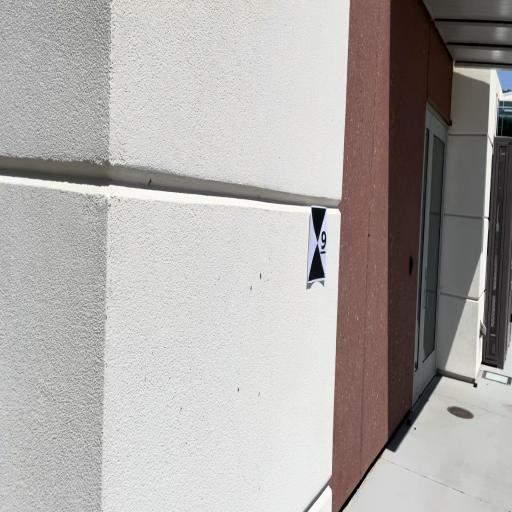target9: (307, 206, 327, 283)
